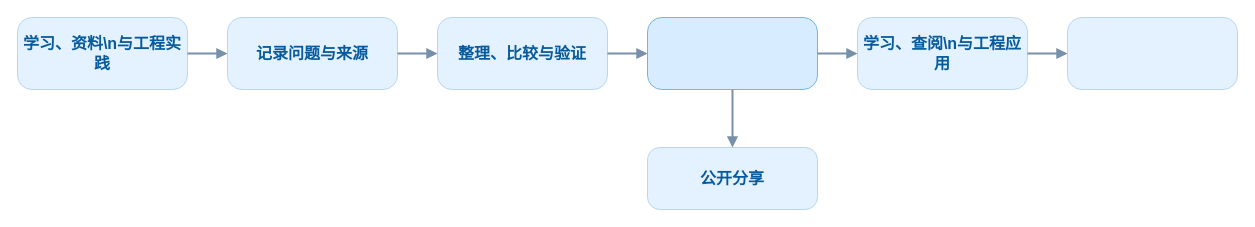
The diagram is 1255 pixels wide and 227 high, and some of its shapes have lost their labels. Each missing label, with the centre of its shape:
反馈、问题\n与新发现: pixel 1152 53
知识、课程\n与实验: pixel 732 53
